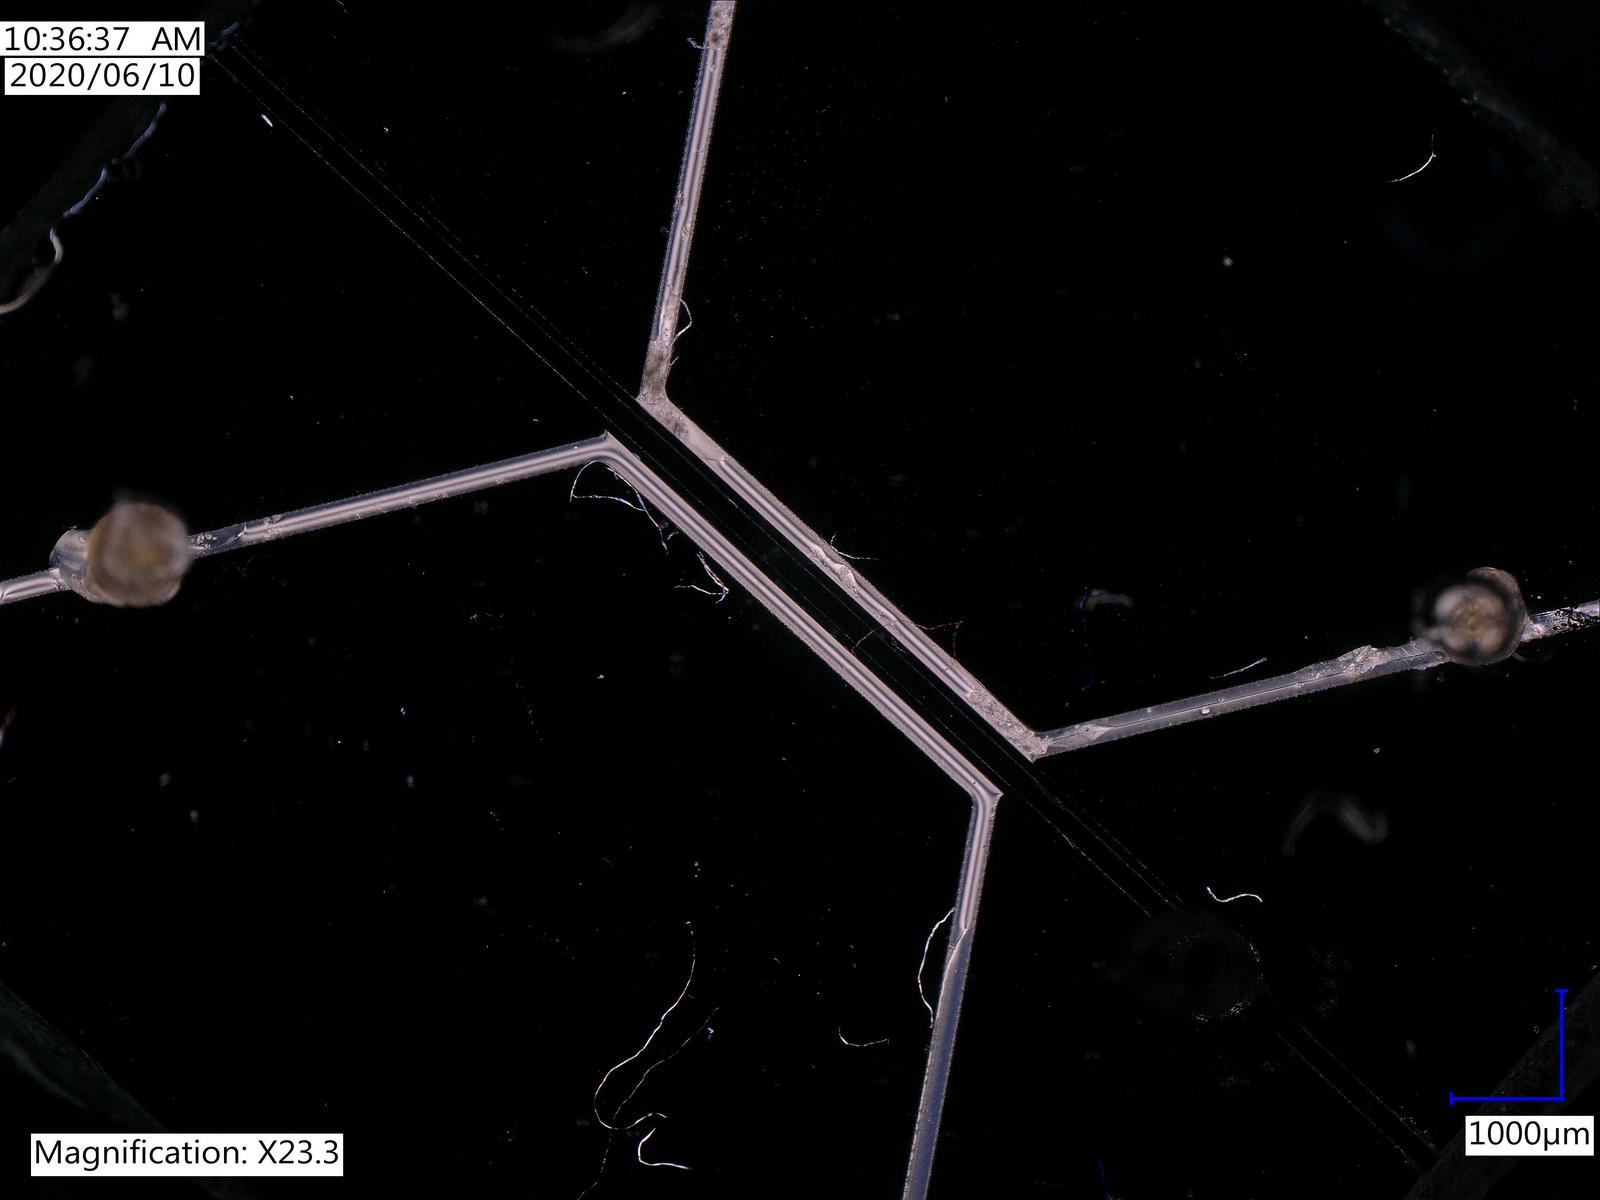sediment: (969, 689, 1044, 758), (643, 342, 670, 395), (655, 410, 690, 435), (1340, 649, 1376, 672), (711, 3, 727, 48)
